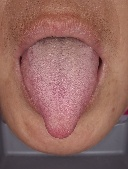tongue: (18, 46, 100, 141)
